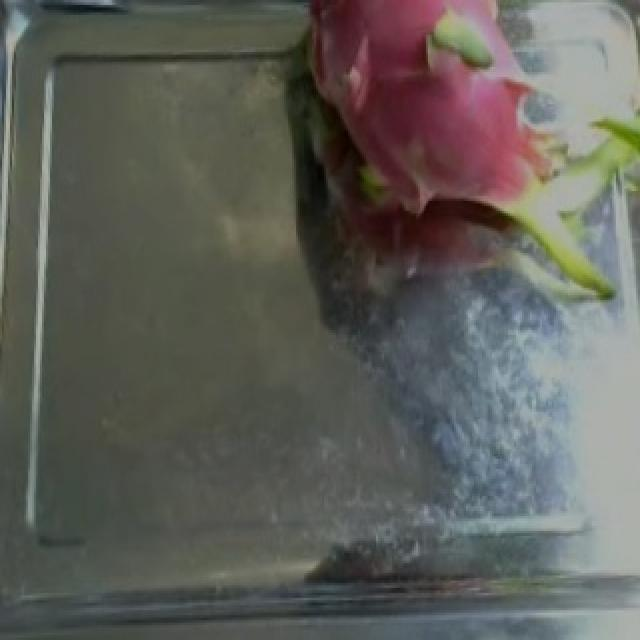fruit: (268, 2, 640, 345)
